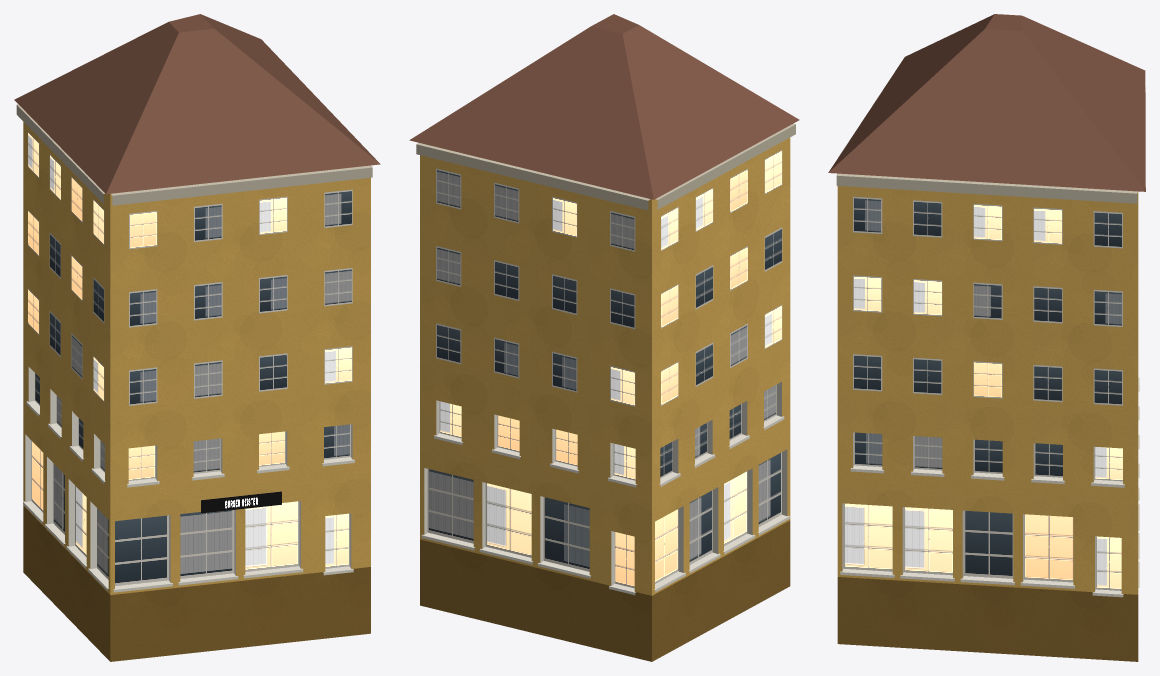
File: langA_burger243.glb
The picture shows the model from 3 angles, left to right: view 1: azimuth 30°, elevation 25°; view 2: azimuth 150°, elevation 25°; view 3: azimuth 270°, elevation 25°; orthographic projection.
Visible parts, largest first — view 1: langA_burger243; view 2: langA_burger243; view 3: langA_burger243.
Boxes of the visible parts, <box> form: langA_burger243: <box>14,14,380,661</box>; langA_burger243: <box>409,14,799,661</box>; langA_burger243: <box>828,14,1145,661</box>.
Bounding box in the file's own units: 12.94 × 25.67 × 12.87.
3 materials, 3 textured.
